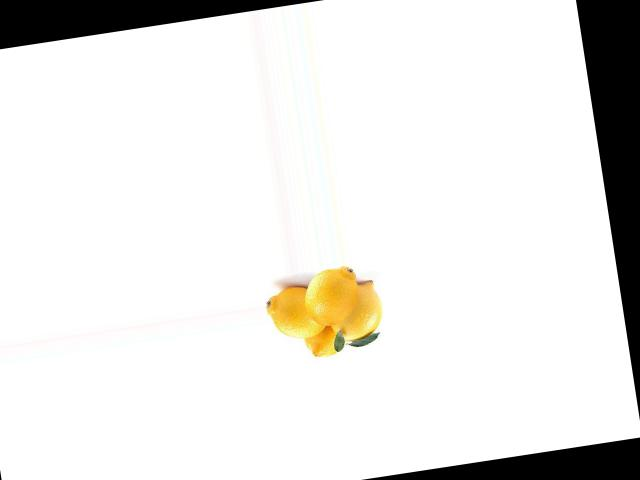lemon: (261, 288, 329, 344)
